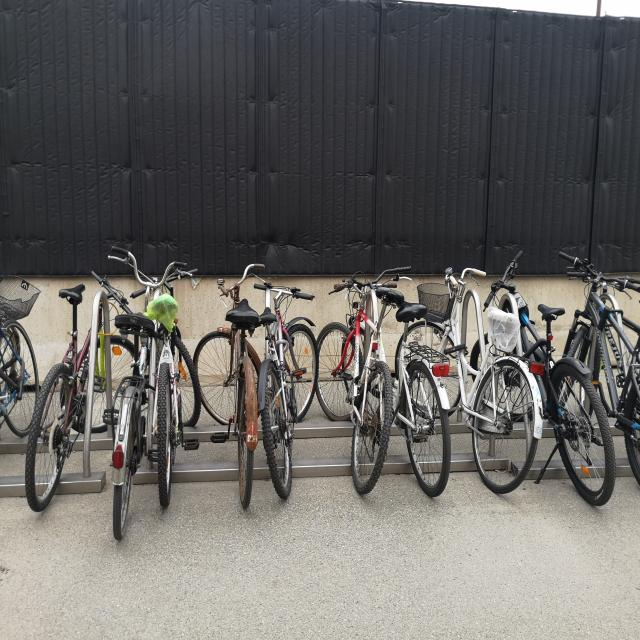Bicycle: (407, 221, 542, 509), (19, 268, 126, 525), (514, 259, 611, 527), (198, 225, 280, 518), (366, 252, 457, 516), (309, 257, 393, 503), (564, 249, 640, 496), (254, 242, 317, 516), (112, 246, 152, 553), (150, 278, 201, 512), (0, 266, 51, 408)
